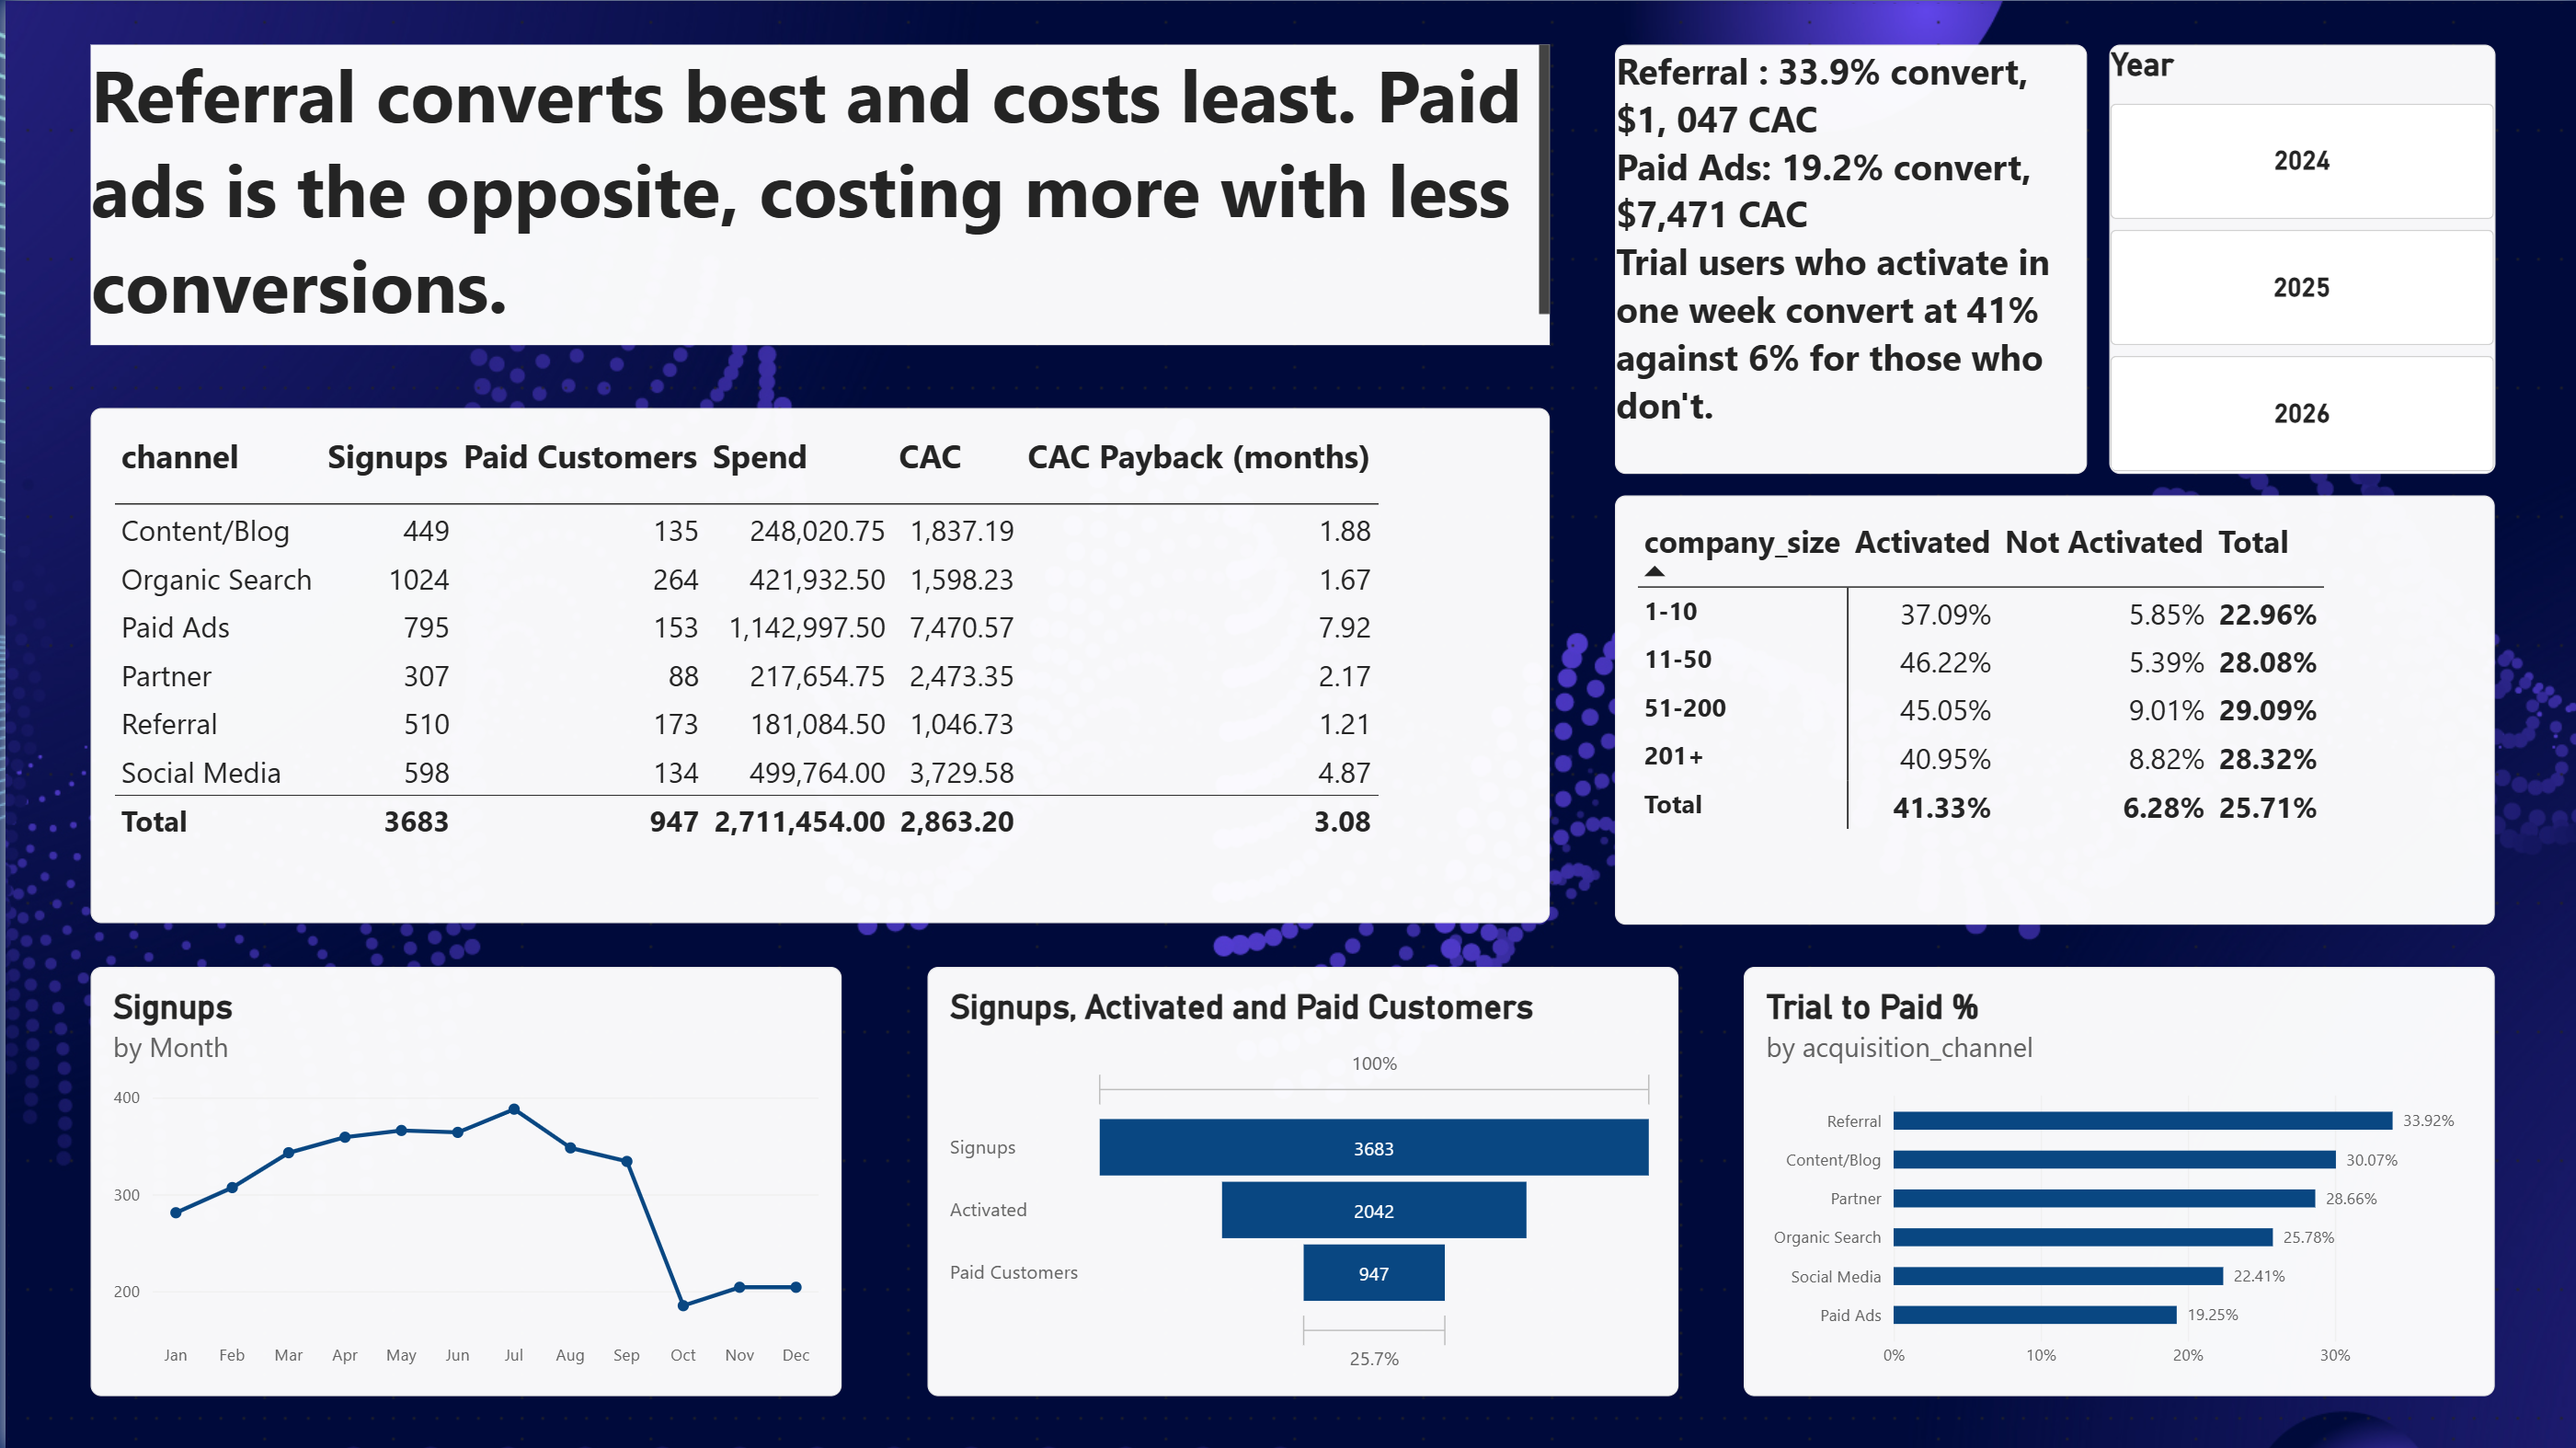

The dashboard page shown, as its layout file describes it:
{"tool":"powerbi","page":{"name":"Acquisition & Funnel","canvas":[1920,1080],"ordinal":1},"visuals":[{"type":"funnel","fields":{"Y":["funnel_and_acquisition_measures.Signups","funnel_and_acquisition_measures.Activated","funnel_and_acquisition_measures.Paid Customers"]},"box":[688,720,560,320],"z":0},{"type":"barChart","fields":{"Category":["customers.acquisition_channel"],"Y":["funnel_and_acquisition_measures.Trial to Paid %"]},"box":[1296,720,560,320],"z":1000},{"type":"tableEx","fields":{"Values":["channels.channel","funnel_and_acquisition_measures.Signups","funnel_and_acquisition_measures.Paid Customers","funnel_and_acquisition_measures.Spend","funnel_and_acquisition_measures.CAC","funnel_and_acquisition_measures.CAC Payback (months)"]},"box":[64,304,1088,384],"z":2000},{"type":"lineChart","fields":{"Y":["funnel_and_acquisition_measures.Signups"],"Category":["Date.Month"]},"box":[64,720,560,320],"z":3000},{"type":"pivotTable","fields":{"Values":["funnel_and_acquisition_measures.Trial to Paid %"],"Rows":["customers.company_size"],"Columns":["customers.Activation_Status"]},"box":[1200,368,656,320],"z":4000},{"type":"advancedSlicerVisual","fields":{"Values":["Date.Year"]},"box":[1568,32,288,320],"z":5000},{"type":"textbox","box":[64,32,1088,224],"z":6000},{"type":"textbox","box":[1200,32,352,320],"z":7000}]}

Visuals, with their boxes in screenshot pixels (x1, y1, x2, y2), scaled from the page's 1920x1080 canvas onto the 2576x1448 screenshot:
funnel - funnel_and_acquisition_measures.Signups x funnel_and_acquisition_measures.Activated: l=923, t=965, r=1675, b=1395
barChart - customers.acquisition_channel x funnel_and_acquisition_measures.Trial to Paid %: l=1739, t=965, r=2490, b=1395
tableEx - channels.channel x funnel_and_acquisition_measures.Signups: l=86, t=408, r=1546, b=923
lineChart - funnel_and_acquisition_measures.Signups x Date.Month: l=86, t=965, r=837, b=1395
pivotTable - funnel_and_acquisition_measures.Trial to Paid % x customers.company_size: l=1610, t=493, r=2490, b=923
advancedSlicerVisual - Date.Year: l=2103, t=43, r=2490, b=472
textbox: l=86, t=43, r=1546, b=343
textbox: l=1610, t=43, r=2082, b=472
